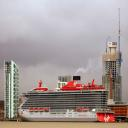cruises: (18, 78, 118, 124)
